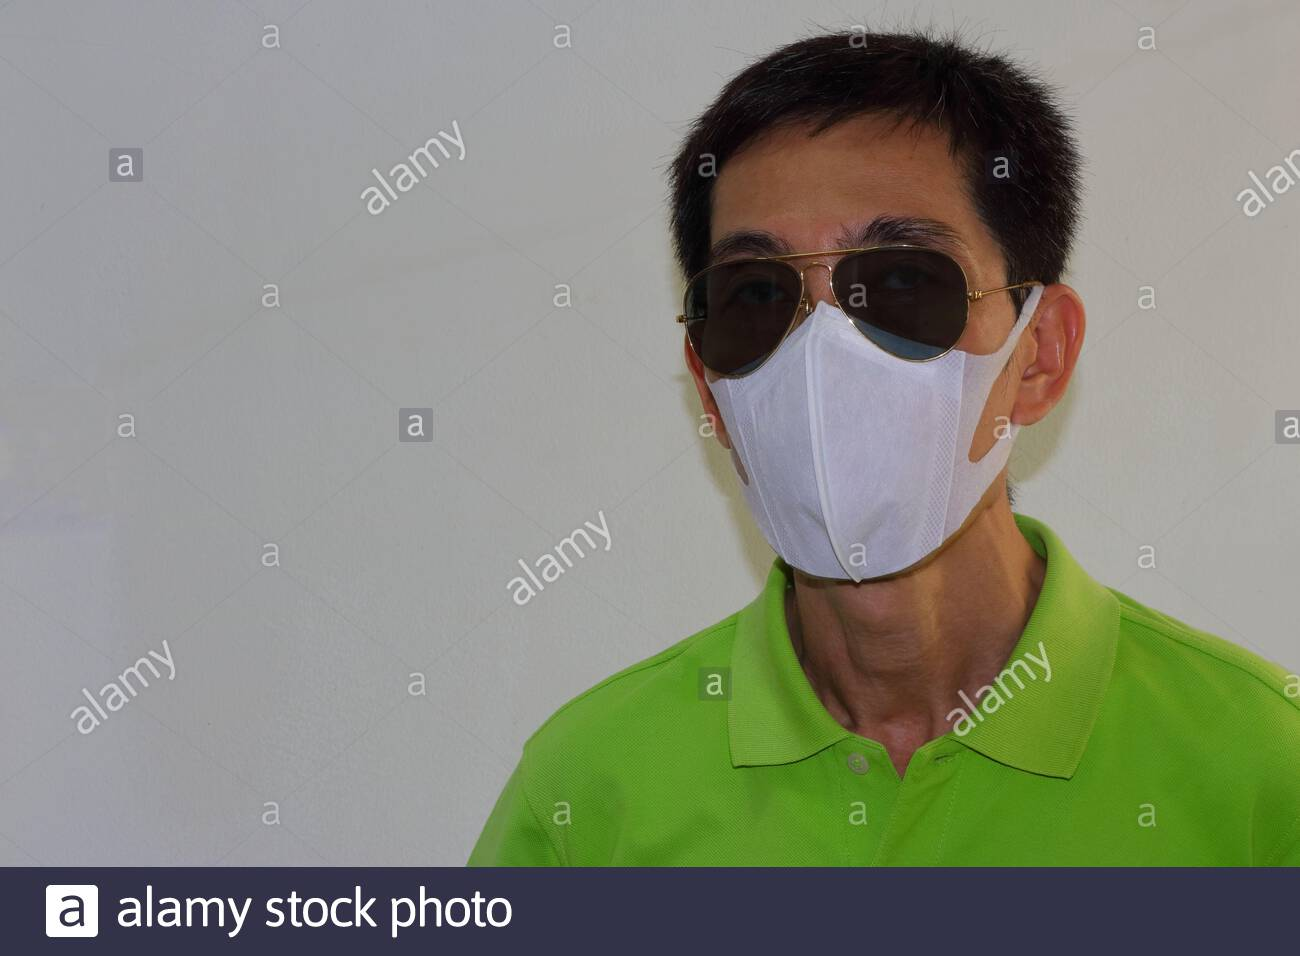mask: (695, 308, 1021, 594)
